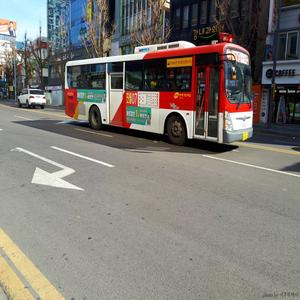07bus: (63, 32, 264, 152)
backdoor: (100, 58, 131, 131)
frontdoor: (186, 51, 221, 141)
